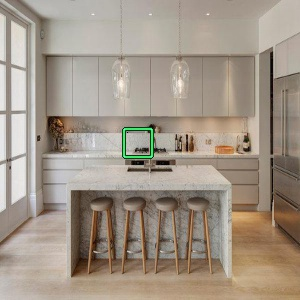square: (120, 126, 155, 161)
